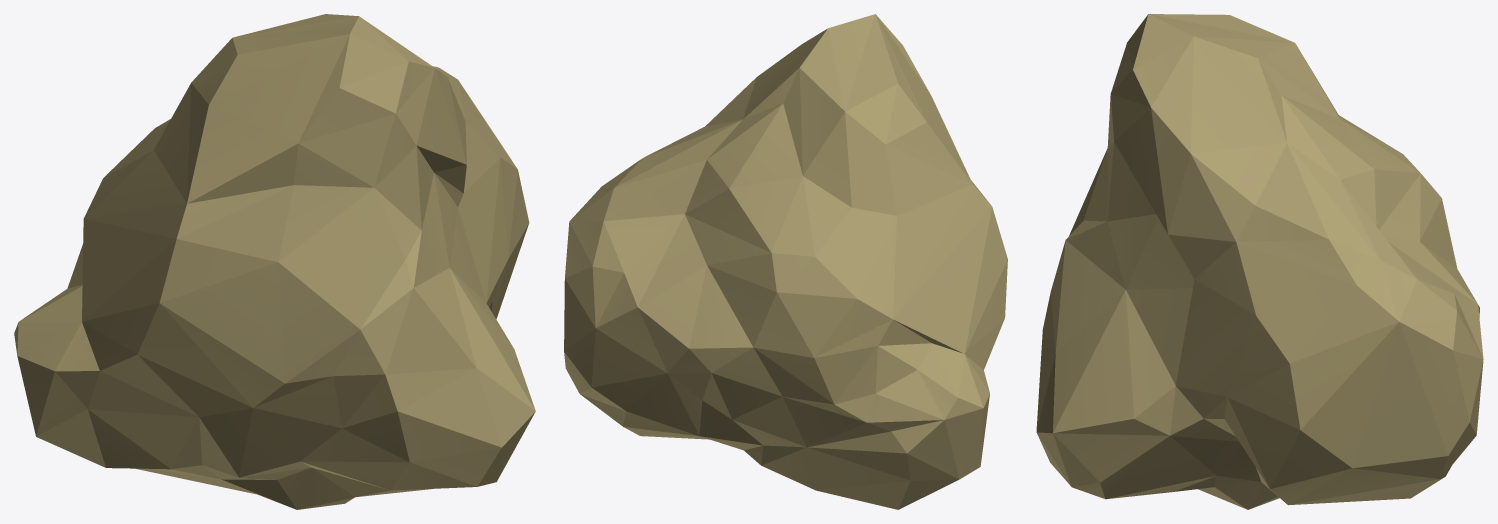
Rendered from SM_rock_85.fbx.
3 views of the same model, side by side, from view 1: azimuth 30°, elevation 25°; view 2: azimuth 150°, elevation 25°; view 3: azimuth 270°, elevation 25° (orthographic). The views are drawn at different scales.
Parts seen in each view (by area): view 1: rock_85; view 2: rock_85; view 3: rock_85.
Part boxes in pixels (x1=…): rock_85: x1=14, y1=14, x2=535, y2=509; rock_85: x1=564, y1=14, x2=1007, y2=509; rock_85: x1=1036, y1=14, x2=1483, y2=509.
Bounding box in the file's own units: 199 × 197 × 165.
